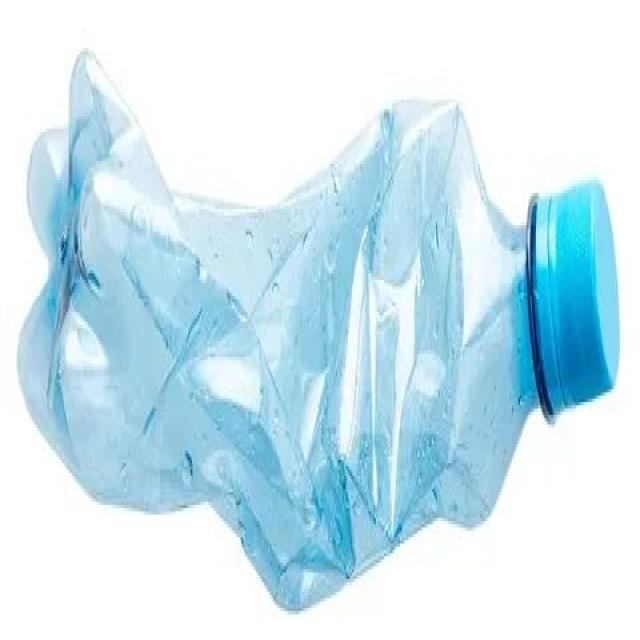blue: (18, 48, 556, 611)
